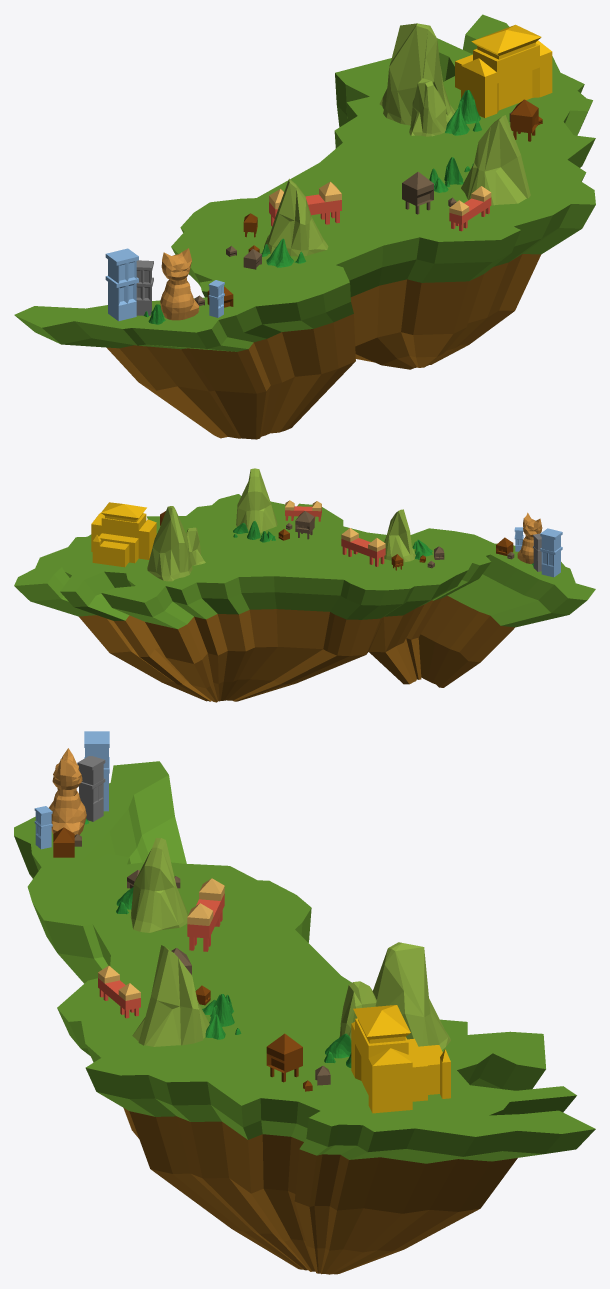
The model's file is newsarmap.fbx.
3 views of the same model, one above another, from view 1: azimuth 30°, elevation 25°; view 2: azimuth 150°, elevation 25°; view 3: azimuth 270°, elevation 25° (orthographic). The views are drawn at different scales.
Visible parts, largest first — view 1: new map sarawak, museum, mt2, mt3, mt1, city2, cat statue, longhouse1, longhouse2, hill1, house5, city3 (+2 smaller); view 2: new map sarawak, museum, mt2, mt3, mt1, longhouse1, city2, cat statue, longhouse2, house5, city3, hill2; view 3: new map sarawak, museum, mt2, mt3, mt1, cat statue, longhouse1, city3, longhouse2, house2, city2, hill2 (+1 smaller).
Part boxes in pixels (x1,y1,x2,y2): new map sarawak: (14, 14, 595, 439); museum: (455, 24, 552, 117); mt2: (379, 23, 455, 136); mt3: (461, 115, 530, 205); mt1: (264, 178, 328, 256); city2: (105, 248, 138, 321); cat statue: (160, 248, 199, 320); longhouse1: (269, 181, 341, 226); longhouse2: (449, 186, 491, 231); hill1: (445, 90, 481, 135); house5: (402, 171, 433, 214); city3: (136, 260, 153, 315); new map sarawak: (14, 494, 595, 702); museum: (91, 502, 156, 567); mt2: (147, 506, 205, 581); mt3: (236, 468, 277, 532); mt1: (384, 509, 415, 562); longhouse1: (341, 528, 385, 566); city2: (540, 528, 562, 577); cat statue: (517, 512, 542, 563); longhouse2: (285, 500, 321, 521); house5: (295, 511, 314, 539); city3: (533, 533, 541, 571); hill2: (233, 521, 260, 539); new map sarawak: (14, 761, 595, 1274); museum: (351, 1005, 450, 1113); mt2: (339, 942, 450, 1049); mt3: (132, 945, 209, 1046); mt1: (130, 838, 187, 932); cat statue: (49, 748, 86, 835); longhouse1: (187, 878, 224, 951); city3: (77, 756, 105, 821); longhouse2: (98, 965, 140, 1018); house2: (266, 1033, 302, 1082); city2: (84, 731, 109, 811); hill2: (205, 994, 241, 1039).
Bounding box in the file's own units: 3913 × 1669 × 2561.
